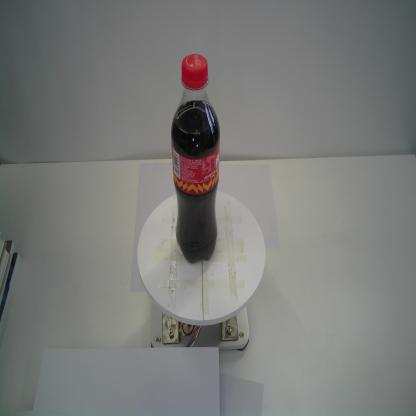Drink: (169, 52, 222, 263)
